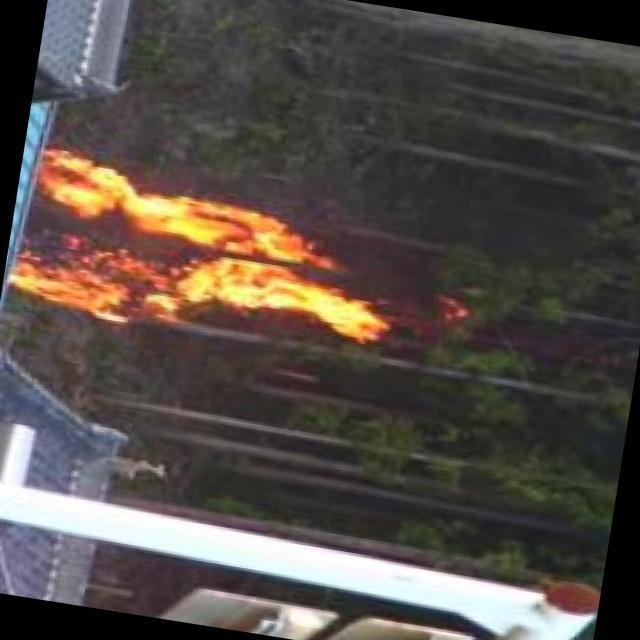Fire: (16, 149, 390, 366)
